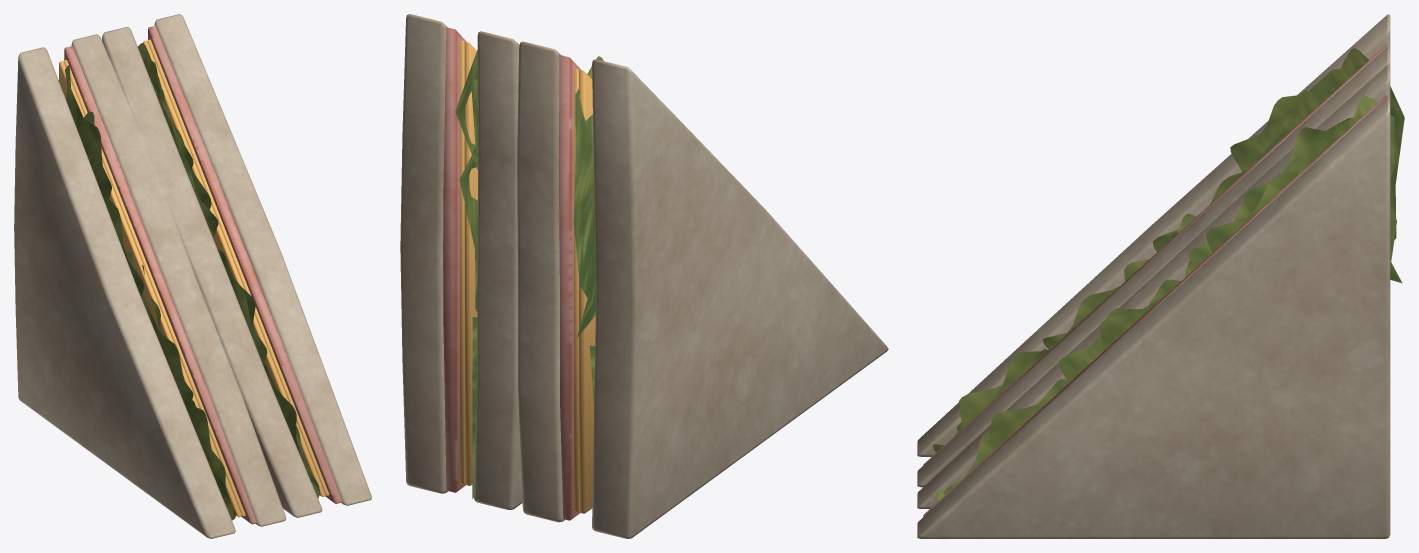
The model's file is Sandwich.fbx.
The picture shows the model from 3 angles, left to right: view 1: azimuth 30°, elevation 25°; view 2: azimuth 150°, elevation 25°; view 3: azimuth 270°, elevation 25°; orthographic projection. The views are drawn at different scales.
Parts seen in each view (by area): view 1: Sandwich; view 2: Sandwich; view 3: Sandwich.
Boxes of the visible parts, x1=… form: Sandwich: x1=14, y1=14, x2=371, y2=538; Sandwich: x1=400, y1=14, x2=888, y2=538; Sandwich: x1=917, y1=14, x2=1404, y2=538.
Bounding box in the file's own units: 0.0842 × 0.1614 × 0.1635.
